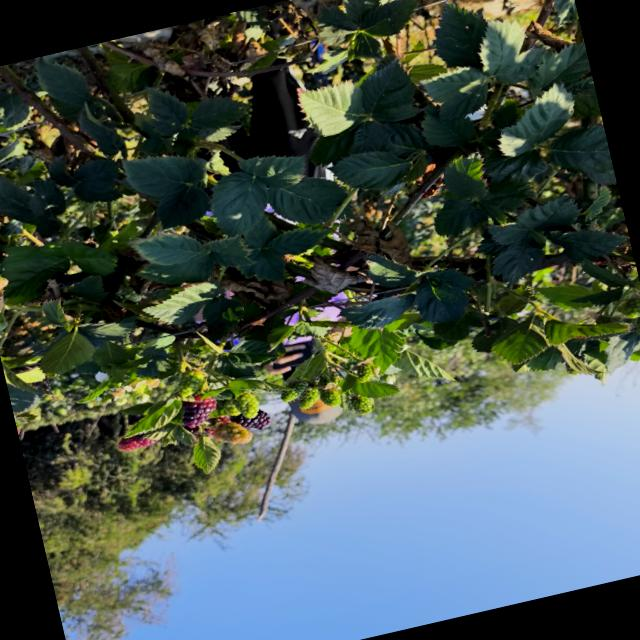marron: (182, 396, 216, 428), (230, 409, 270, 429), (117, 434, 156, 451)
verde: (177, 370, 205, 397), (234, 392, 259, 418), (319, 382, 341, 406), (211, 399, 239, 417), (349, 395, 374, 415), (298, 388, 319, 410), (281, 386, 302, 402)
